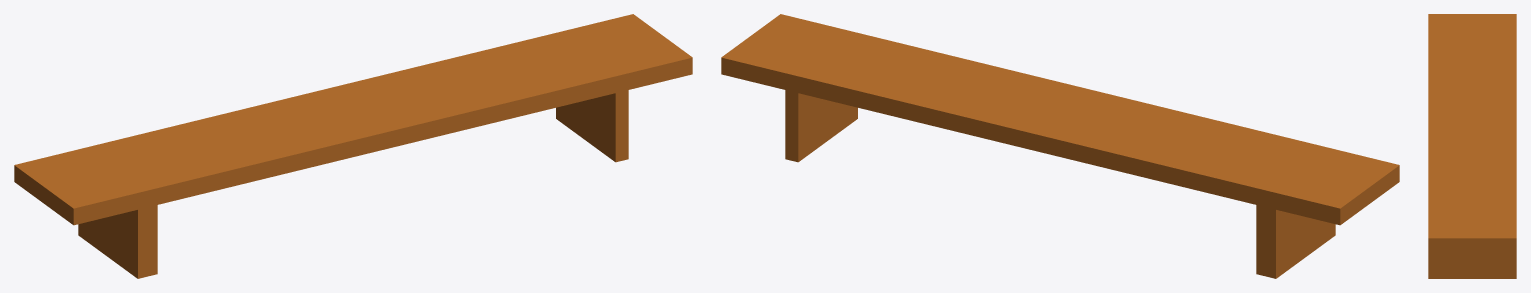
Rendered from monitor-stand.gltf.
3 views of the same model, side by side, from view 1: azimuth 30°, elevation 25°; view 2: azimuth 150°, elevation 25°; view 3: azimuth 270°, elevation 25° (orthographic). The views are drawn at different scales.
Visible parts, largest first — view 1: monitor-stand; view 2: monitor-stand; view 3: monitor-stand.
Part boxes in pixels (<box>): monitor-stand: <box>14,14,692,278</box>; monitor-stand: <box>721,14,1399,278</box>; monitor-stand: <box>1428,14,1516,278</box>.
Bounding box in the file's own units: 0.9643 × 0.129 × 0.1605.
